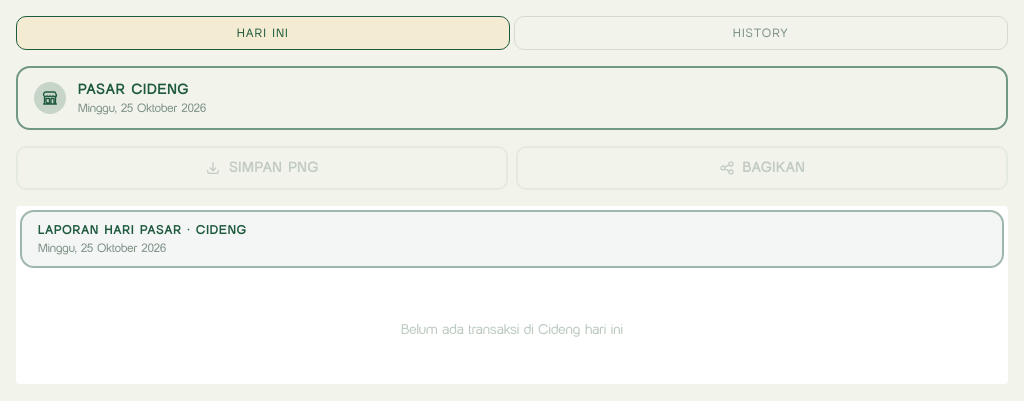
Test: LaporanPasar › switches to history view when History tab clicked on market day
Click the button "History".
click(761, 33)  # box top-left (514, 16), bottom-right (1008, 50)
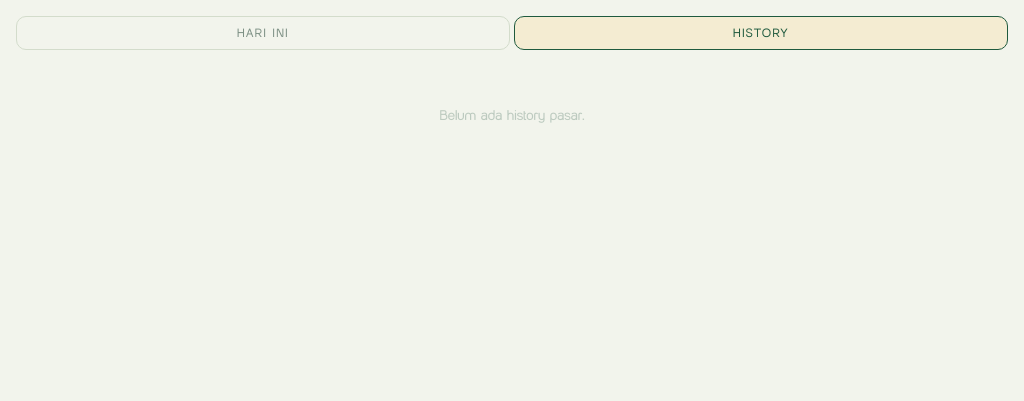
Result: the text "Belum ada history pasar." is shown at top-left (440, 107), bottom-right (585, 124)
